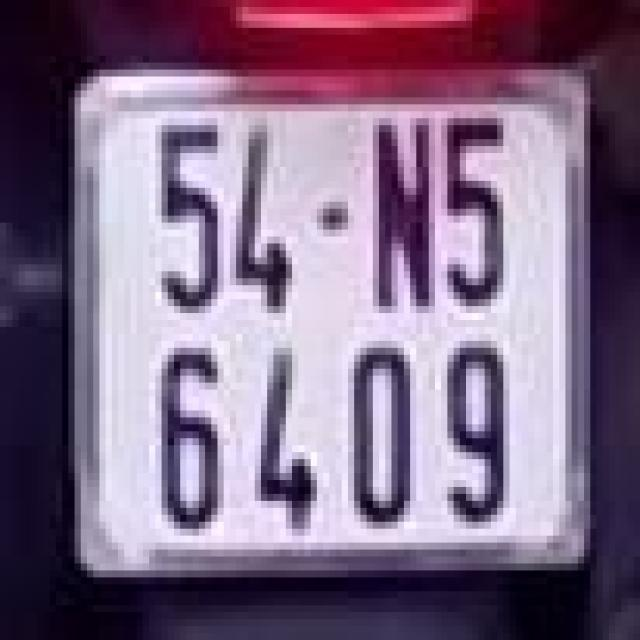0: (342, 338, 422, 532)
4: (248, 341, 329, 529), (230, 108, 298, 323)
5: (152, 115, 227, 316), (441, 104, 510, 313)
6: (155, 334, 230, 529)
9: (435, 334, 516, 529)
N: (367, 108, 441, 323)
